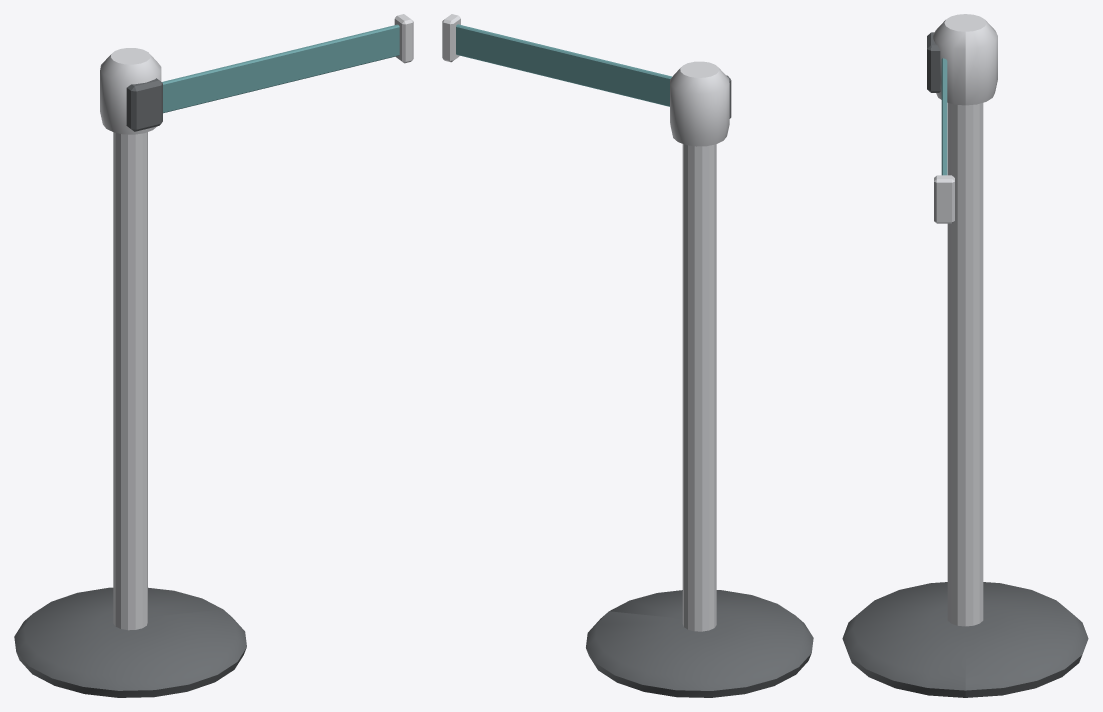
Rendered from hotel-and-resort-operations-queue-post-and-belt-8dd04573__25878.glb.
The picture shows the model from 3 angles, left to right: view 1: azimuth 30°, elevation 25°; view 2: azimuth 150°, elevation 25°; view 3: azimuth 270°, elevation 25°; orthographic projection. The views are drawn at different scales.
Visible parts, largest first — view 1: queue-post-and-belt; view 2: queue-post-and-belt; view 3: queue-post-and-belt.
Part boxes in pixels (left/top/right/bottom): queue-post-and-belt: left=14, top=14, right=413, bottom=697; queue-post-and-belt: left=442, top=14, right=813, bottom=697; queue-post-and-belt: left=842, top=14, right=1088, bottom=697.
Bounding box in the file's own units: 0.64 × 0.98 × 0.35.
